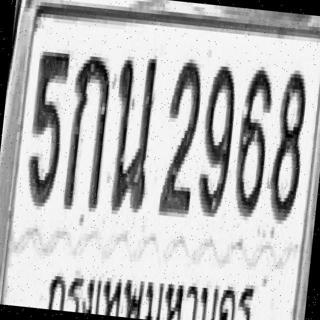A01: (62, 49, 113, 210)
A25: (105, 48, 159, 213)
N02: (157, 54, 205, 214)
N05: (23, 45, 71, 206)
N06: (231, 63, 275, 216)
N08: (266, 65, 310, 222)
N09: (195, 59, 239, 216)
P04: (46, 253, 258, 320)
